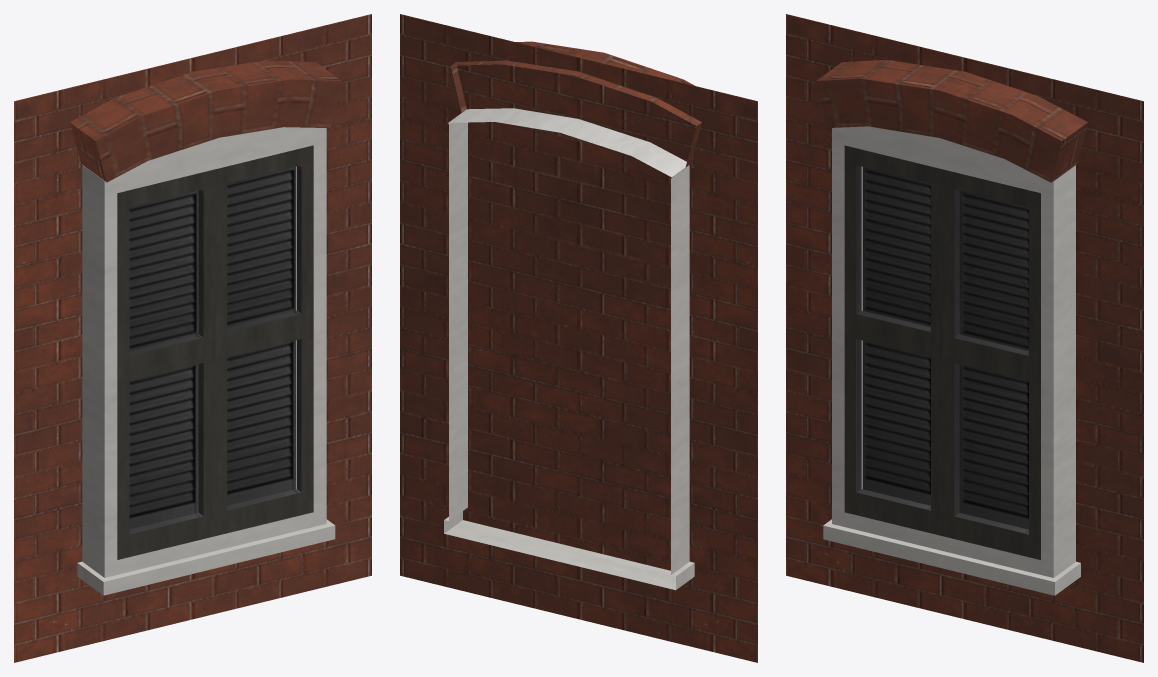
File: Window_Close.fbx
3 renders of one model, left to right at view 1: azimuth 30°, elevation 25°; view 2: azimuth 150°, elevation 25°; view 3: azimuth 330°, elevation 25°, orthographic.
Visible parts, largest first — view 1: Brick_WINDOW_CLOSE_TWO_BY_THREE; view 2: Brick_WINDOW_CLOSE_TWO_BY_THREE; view 3: Brick_WINDOW_CLOSE_TWO_BY_THREE.
Part boxes in pixels (x1,y1,x2,y2): Brick_WINDOW_CLOSE_TWO_BY_THREE: (14, 14, 371, 662); Brick_WINDOW_CLOSE_TWO_BY_THREE: (400, 14, 757, 662); Brick_WINDOW_CLOSE_TWO_BY_THREE: (786, 14, 1143, 662).
Size of the model in its own units: 2 by 3 by 0.4351.
